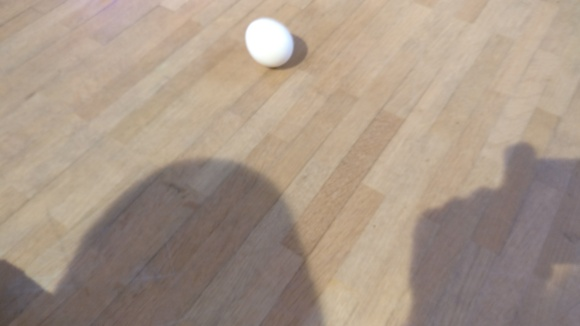egg: (243, 18, 297, 68)
